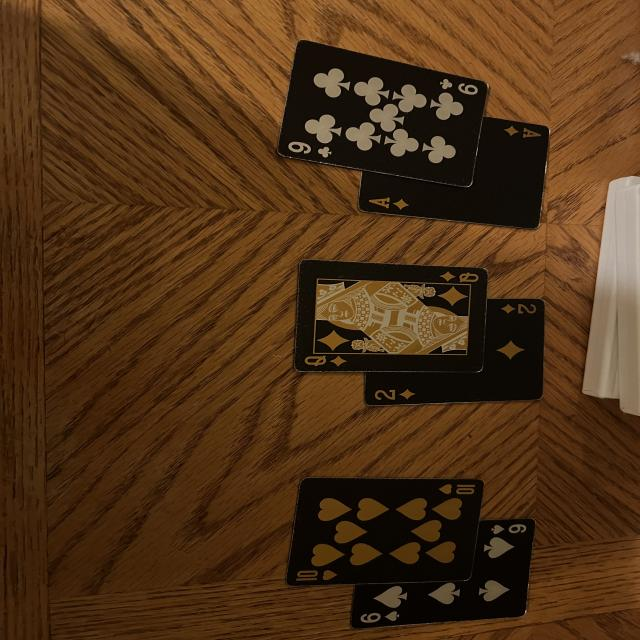10H: (437, 481, 484, 499), (296, 568, 340, 585)
2D: (373, 387, 420, 403), (502, 300, 540, 316)
6S: (485, 520, 531, 537), (360, 611, 403, 624)
9C: (285, 138, 339, 160), (439, 75, 484, 97)
AD: (501, 120, 549, 144), (368, 192, 412, 214)
QD: (302, 354, 356, 368), (439, 268, 482, 284)
